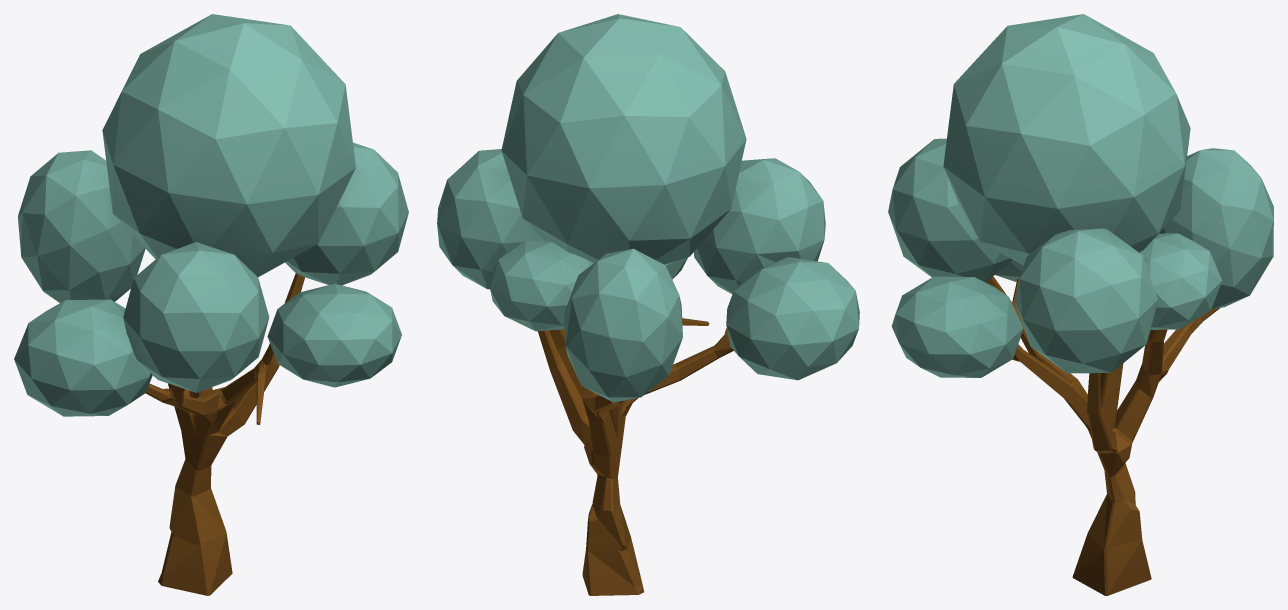
Rendered from tree_cluster.glb.
3 renders of one model, left to right at view 1: azimuth 30°, elevation 25°; view 2: azimuth 150°, elevation 25°; view 3: azimuth 270°, elevation 25°, orthographic. The views are drawn at different scales.
Parts seen in each view (by area): view 1: Tree_10_AA; view 2: Tree_10_AA; view 3: Tree_10_AA.
Part boxes in pixels (bbox=[...]): Tree_10_AA: bbox=[14, 14, 408, 595]; Tree_10_AA: bbox=[437, 14, 859, 595]; Tree_10_AA: bbox=[888, 14, 1273, 595].
Bounding box in the file's own units: 2.3 × 3.13 × 1.94.
1 material, 1 textured.
